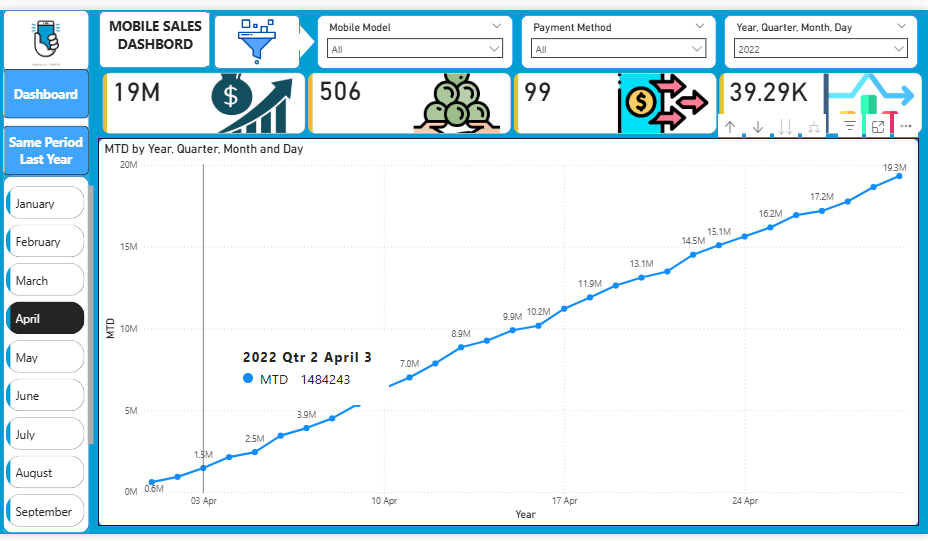

The page's visual inventory and layout, read from the dashboard file:
{"tool":"powerbi","page":{"name":"MTD","canvas":[1280,720],"ordinal":1},"visuals":[{"type":"shape","box":[7.1,0,118.6,84.3],"z":0},{"type":"image","box":[25.1,1.5,82.7,81.2],"z":1000},{"type":"shape","box":[7.1,81.4,118.6,147.1],"z":2000},{"type":"cardVisual","fields":{"Data":["sales_data.total_sales","sales_data.total_quntity","sales_data.transaction","sales_data.avg"]},"box":[138.6,81.4,1141.4,94.3],"z":3000},{"type":"slicer","fields":{"Values":["sales_data.Mobile Model"]},"box":[438.6,7.4,270.3,73.8],"z":4000},{"type":"slicer","fields":{"Values":["sales_data.Payment Method"]},"box":[719.3,7.4,268.8,73.8],"z":5000},{"type":"slicer","fields":{"Values":["custom_calender.date.Variation.Date Hierarchy.Year","custom_calender.date.Variation.Date Hierarchy.Quarter","custom_calender.date.Variation.Date Hierarchy.Month","custom_calender.date.Variation.Date Hierarchy.Day"]},"box":[999.9,7.4,267.3,73.8],"z":6000},{"type":"shape","box":[296.9,7.4,118.2,73.8],"z":7000},{"type":"image","box":[296.9,7.4,118.2,73.8],"z":8000},{"type":"shape","box":[394.3,20.7,41.4,45.8],"z":9000},{"type":"shape","box":[138.8,1.5,152.1,78.3],"z":10000},{"type":"textbox","box":[141.8,4.4,149.2,72.4],"z":11000},{"type":"lineChart","fields":{"Y":["sales_data.MTD"],"Category":["custom_calender.date.Variation.Date Hierarchy.Year","custom_calender.date.Variation.Date Hierarchy.Quarter","custom_calender.date.Variation.Date Hierarchy.Month","custom_calender.date.Variation.Date Hierarchy.Day"]},"box":[137.4,175.8,1129.8,534.6],"z":12000},{"type":"shape","box":[7.1,228.6,118.6,491.4],"z":13000},{"type":"advancedSlicerVisual","fields":{"Values":["custom_calender.date.Variation.Date Hierarchy.Month"]},"box":[5.9,236.3,131.4,484.4],"z":14000},{"type":"pageNavigator","box":[7.4,81.2,118.2,147.7],"z":15000}]}

Visuals, with their boxes on the page's 1280x720 design canvas (x1, y1, x2, y2). These are canvas units, not pixel positions in the 928x541 screenshot, which may show the page scaled, cropped or inside an application window:
shape: <region>7, 0, 126, 84</region>
image: <region>25, 2, 108, 83</region>
shape: <region>7, 81, 126, 228</region>
cardVisual - sales_data.total_sales x sales_data.total_quntity: <region>139, 81, 1280, 176</region>
slicer - sales_data.Mobile Model: <region>439, 7, 709, 81</region>
slicer - sales_data.Payment Method: <region>719, 7, 988, 81</region>
slicer - custom_calender.date.Variation.Date Hierarchy.Year x custom_calender.date.Variation.Date Hierarchy.Quarter: <region>1000, 7, 1267, 81</region>
shape: <region>297, 7, 415, 81</region>
image: <region>297, 7, 415, 81</region>
shape: <region>394, 21, 436, 66</region>
shape: <region>139, 2, 291, 80</region>
textbox: <region>142, 4, 291, 77</region>
lineChart - sales_data.MTD x custom_calender.date.Variation.Date Hierarchy.Year: <region>137, 176, 1267, 710</region>
shape: <region>7, 229, 126, 720</region>
advancedSlicerVisual - custom_calender.date.Variation.Date Hierarchy.Month: <region>6, 236, 137, 721</region>
pageNavigator: <region>7, 81, 126, 229</region>
